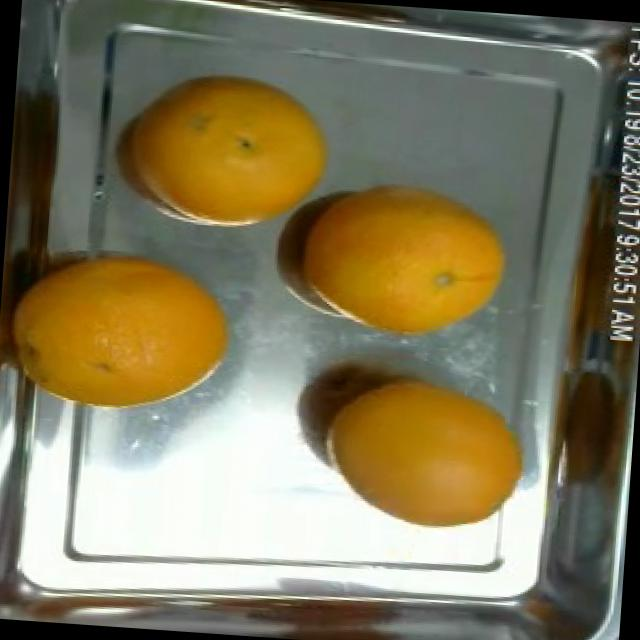Fruit: (326, 362, 548, 542), (138, 59, 350, 240)
